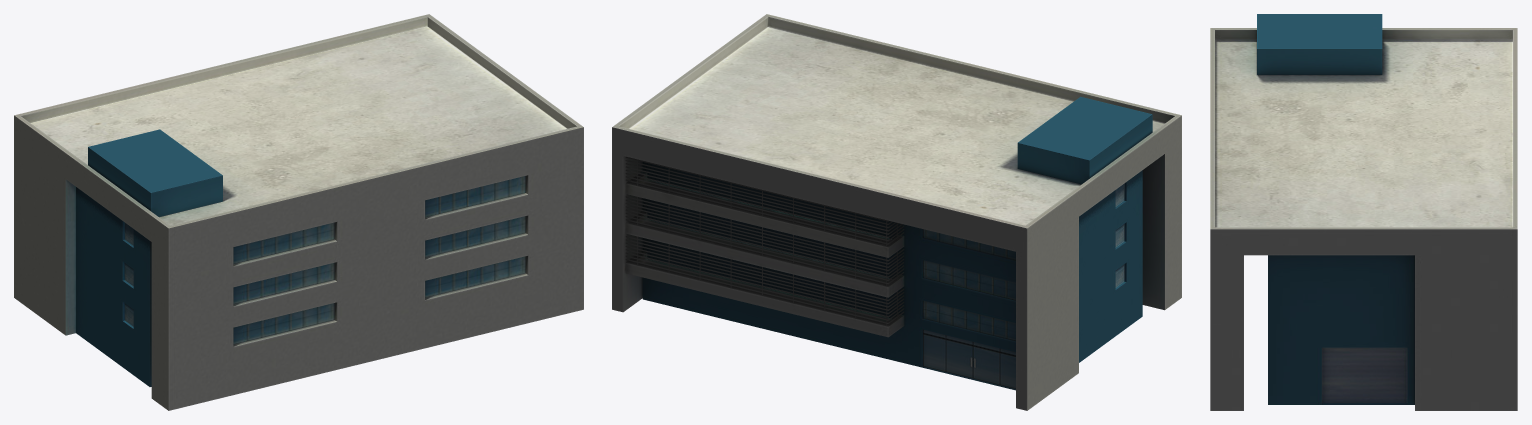
The model's file is dalou.gltf.
3 views of the same model, side by side, from view 1: azimuth 30°, elevation 25°; view 2: azimuth 150°, elevation 25°; view 3: azimuth 270°, elevation 25° (orthographic).
Parts seen in each view (by area): view 1: fangzi4_1, fangzi4_3, fangzi4_4; view 2: fangzi4_1, fangzi4_3, fangzi4_2, fangzi4_4; view 3: fangzi4_1, fangzi4_3, fangzi4_4.
Part boxes in pixels (x1,y1,x2,y2): fangzi4_1: [14, 14, 583, 410]; fangzi4_3: [76, 187, 151, 386]; fangzi4_4: [88, 129, 222, 216]; fangzi4_1: [612, 14, 1181, 410]; fangzi4_3: [642, 162, 1142, 390]; fangzi4_2: [625, 156, 904, 337]; fangzi4_4: [1017, 96, 1152, 184]; fangzi4_1: [1210, 28, 1517, 410]; fangzi4_3: [1268, 255, 1414, 404]; fangzi4_4: [1257, 14, 1382, 74].
Size of the model in its own units: 500 by 229 by 322.
Materials: 4 (4 with a texture image).
